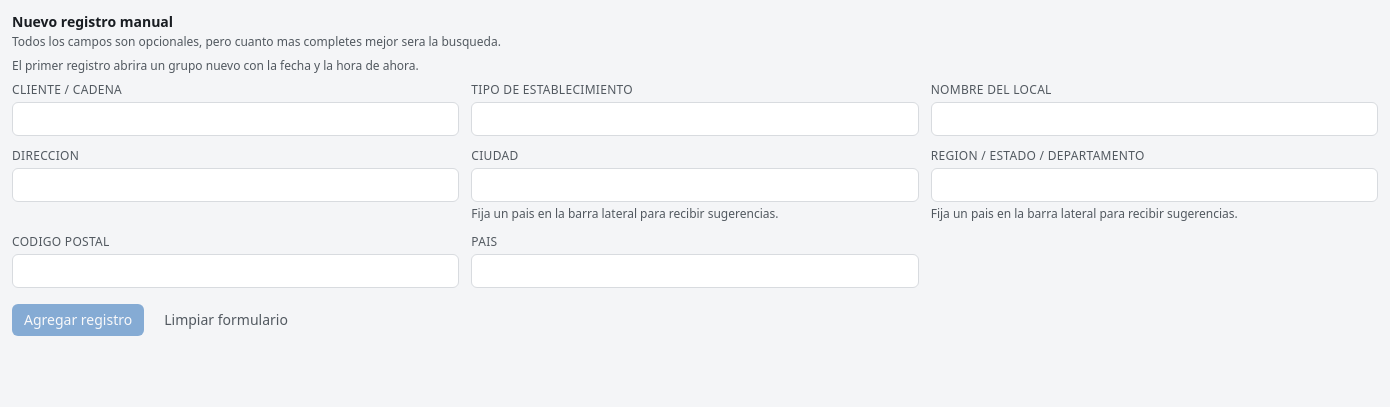
ManualEntryForm › muestra el grupo abierto con su recuento
This screenshot has width=1390, height=407.
Expected: the text "El primer registro abrira un grupo nuevo" is shown, [12, 57, 419, 74]
Step 1. Type "Toks Plaza" into the field labelled "Nombre del local" → (1154, 119), box [931, 102, 1378, 136]
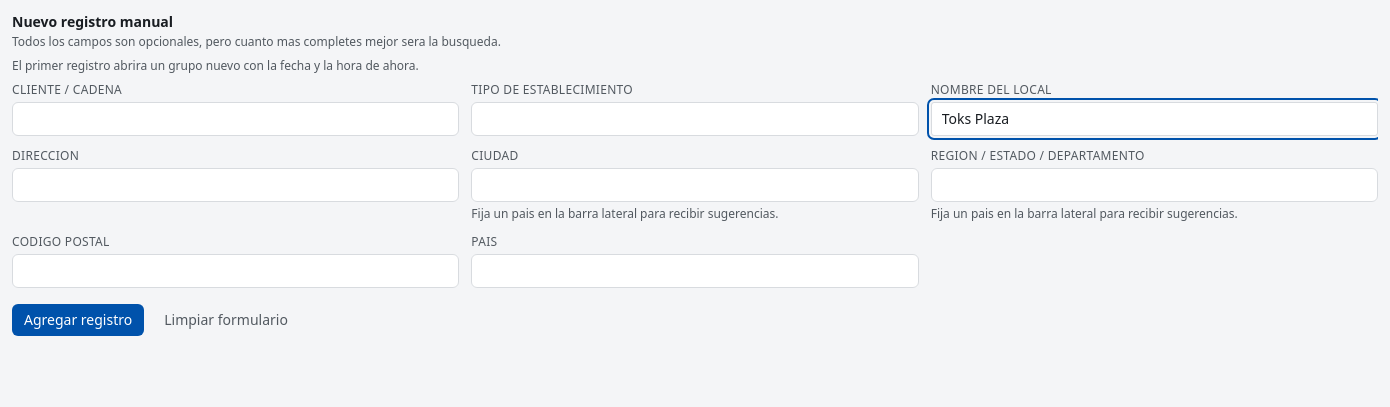
Step 2. Click the button "Agregar registro" → (78, 320), box [12, 304, 144, 336]
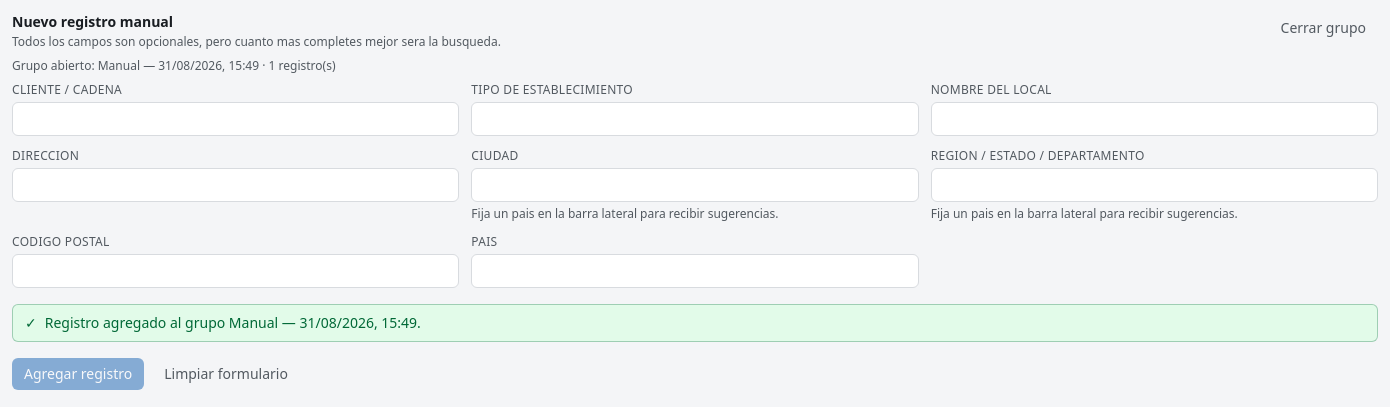
Expected: the text "Grupo abierto: Manual — 31/08/2026, 15:49 · 1 registro(s)" is shown, [12, 57, 336, 74]
